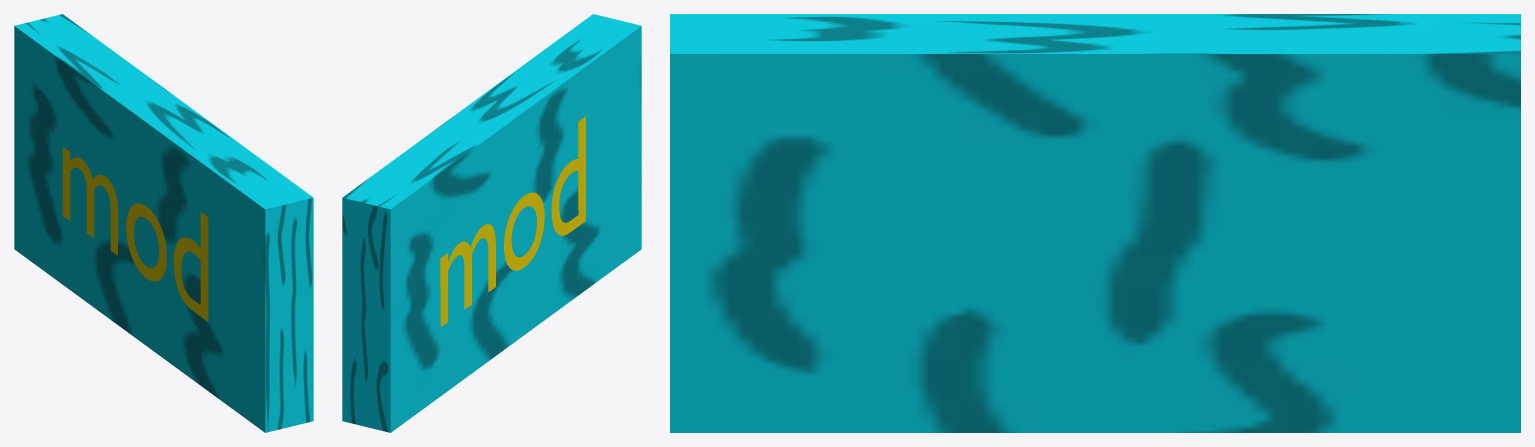
File: item-modbadge.glb
3 views of the same model, side by side, from view 1: azimuth 30°, elevation 25°; view 2: azimuth 150°, elevation 25°; view 3: azimuth 270°, elevation 25° (orthographic). The views are drawn at different scales.
Bounding box in the file's own units: 0.6831 × 2.97 × 6.04.
2 materials, 1 textured.
